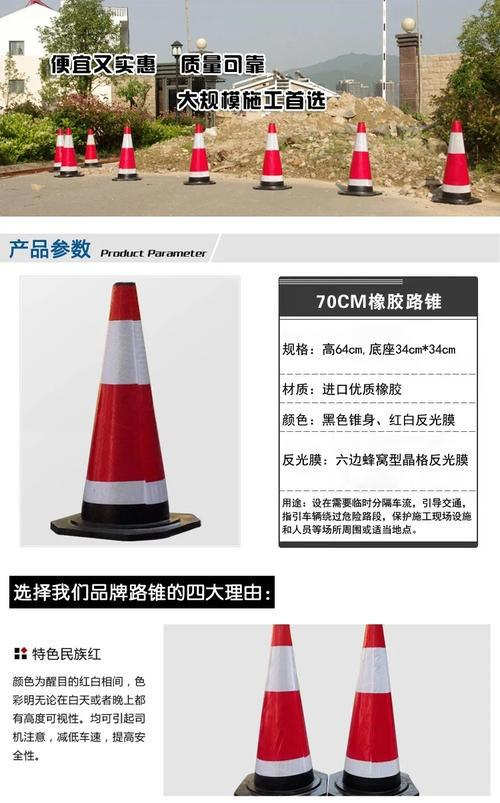cone_barrel: (61, 292, 187, 539), (241, 623, 320, 797), (333, 623, 411, 798), (434, 117, 476, 205), (338, 118, 377, 196), (254, 118, 288, 189), (183, 120, 214, 186), (112, 121, 141, 180), (56, 126, 80, 175), (82, 126, 100, 168)
